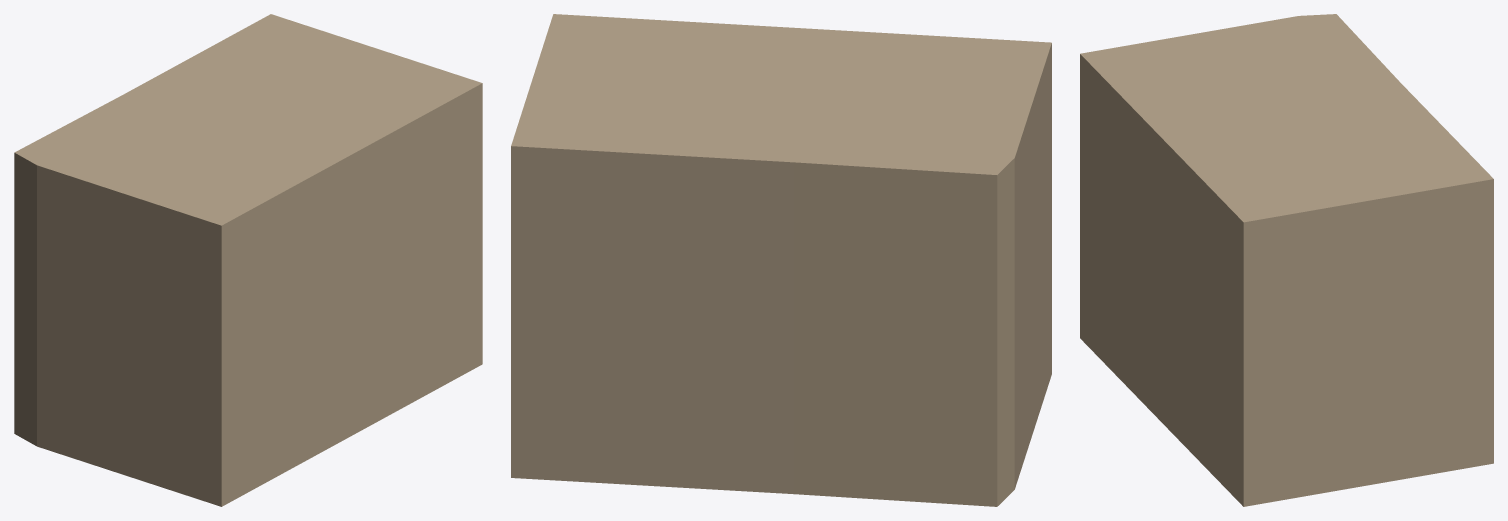
The model's file is bld_101805785.dae.
3 views of the same model, side by side, from view 1: azimuth 30°, elevation 25°; view 2: azimuth 150°, elevation 25°; view 3: azimuth 270°, elevation 25° (orthographic). The views are drawn at different scales.
Visible parts, largest first — view 1: bld_101805785; view 2: bld_101805785; view 3: bld_101805785.
Part boxes in pixels (<box>): bld_101805785: <box>14,14,482,506</box>; bld_101805785: <box>511,14,1051,506</box>; bld_101805785: <box>1080,14,1493,506</box>.
Size of the model in its own units: 12.57 by 10.55 by 8.
